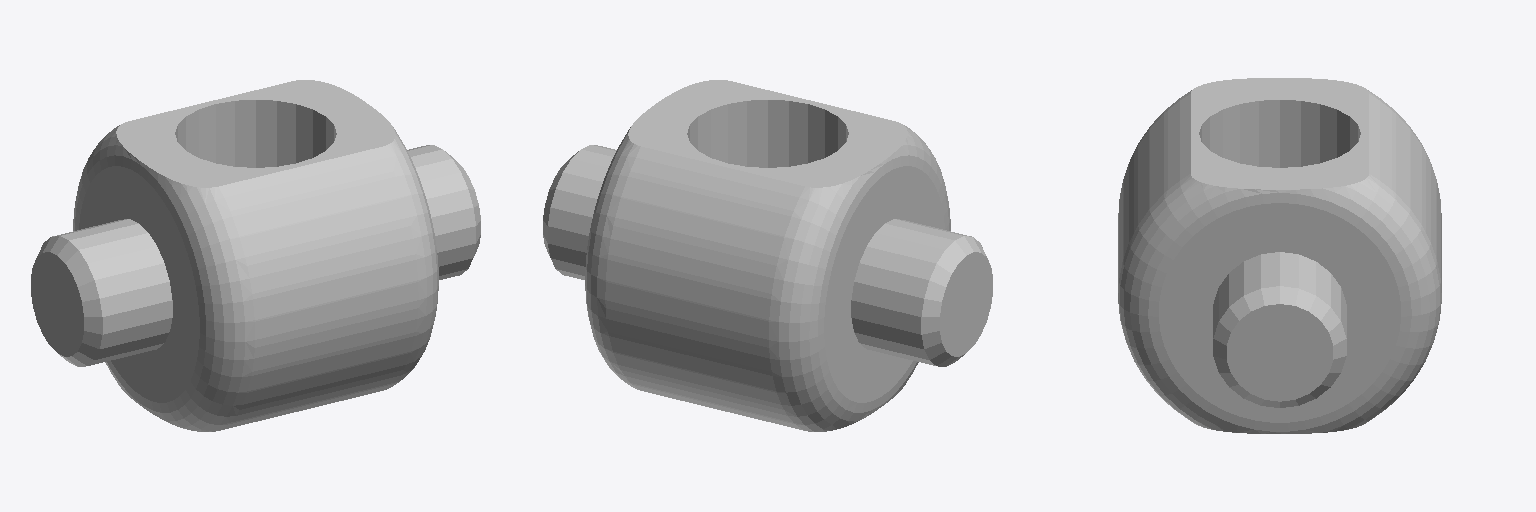
Rendered from waist_roll_link_visuals.obj.
The picture shows the model from 3 angles: view 1: azimuth 30°, elevation 25°; view 2: azimuth 150°, elevation 25°; view 3: azimuth 270°, elevation 25°; orthographic projection.
Bounding box in the file's own units: 0.034 × 0.02 × 0.024.